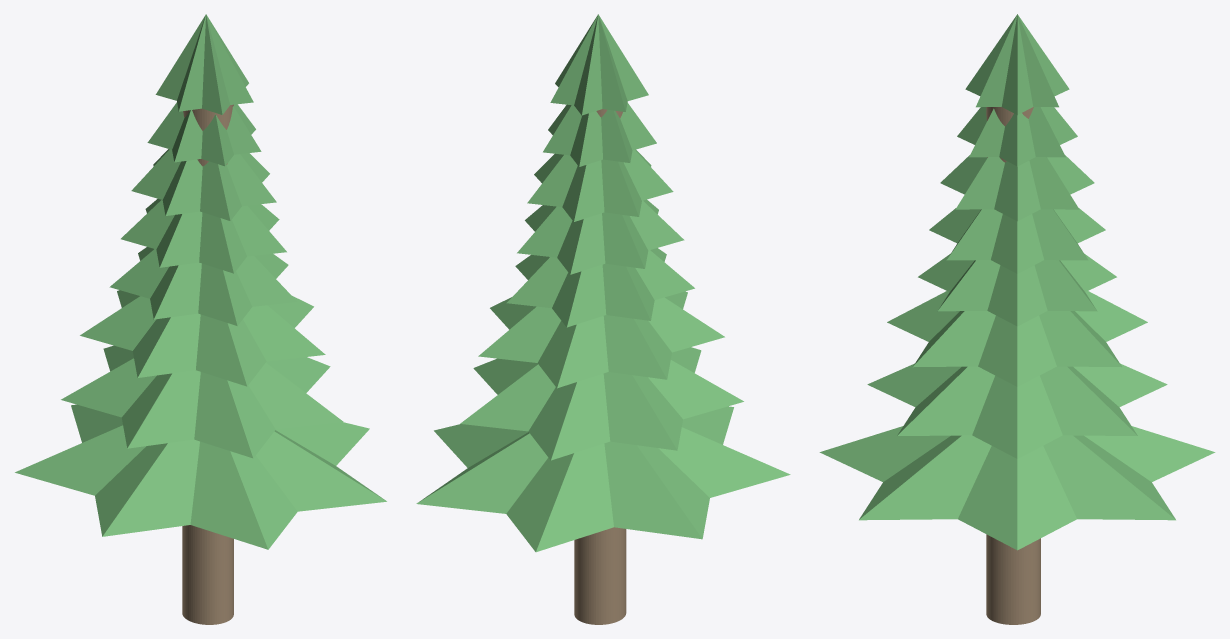
The model's file is Tree1.glb.
3 views of the same model, side by side, from view 1: azimuth 30°, elevation 25°; view 2: azimuth 150°, elevation 25°; view 3: azimuth 270°, elevation 25° (orthographic).
Visible parts, largest first — view 1: Mesh_Mesh_head_geo.001_lambert2SG.001; view 2: Mesh_Mesh_head_geo.001_lambert2SG.001; view 3: Mesh_Mesh_head_geo.001_lambert2SG.001.
Part boxes in pixels (x1,y1,x2,y2): Mesh_Mesh_head_geo.001_lambert2SG.001: [15, 14, 386, 624]; Mesh_Mesh_head_geo.001_lambert2SG.001: [416, 14, 790, 624]; Mesh_Mesh_head_geo.001_lambert2SG.001: [819, 14, 1215, 624].
Size of the model in its own units: 0.072 by 0.132 by 0.079.
